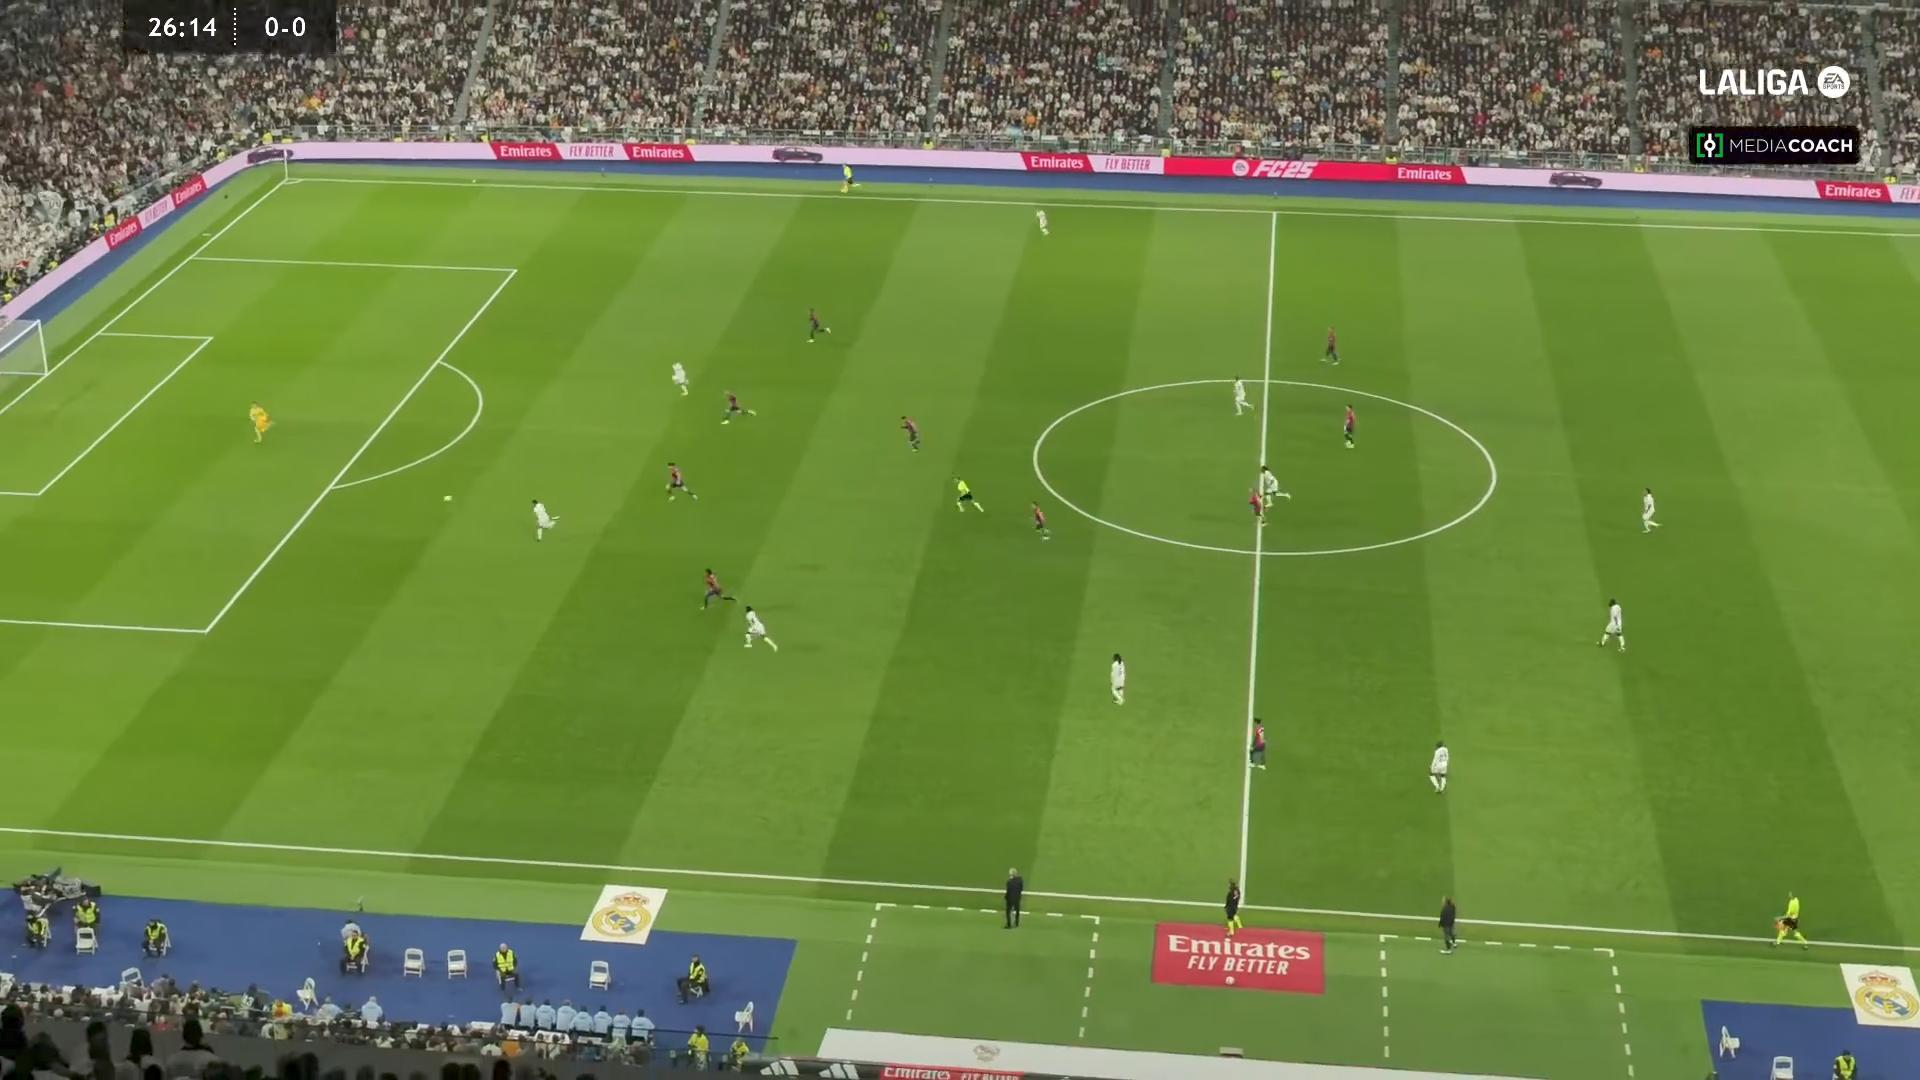ball: (444, 493, 452, 502)
goalkeeper: (248, 400, 273, 442)
player: (741, 604, 777, 652), (1596, 597, 1626, 652), (698, 567, 734, 611), (663, 460, 697, 502), (1258, 465, 1289, 508), (719, 389, 755, 425), (529, 498, 558, 541), (1427, 740, 1449, 793), (1248, 717, 1266, 770), (805, 307, 830, 344), (1639, 486, 1659, 532), (898, 413, 920, 452), (1109, 652, 1125, 705), (1232, 375, 1253, 415), (1029, 501, 1050, 541), (1249, 487, 1269, 528), (1320, 325, 1339, 364), (669, 360, 689, 397), (1341, 402, 1357, 448), (1034, 206, 1050, 235)
referee: (1772, 891, 1808, 949), (953, 476, 983, 513)
staff: (1002, 866, 1022, 928), (1437, 895, 1457, 952)
